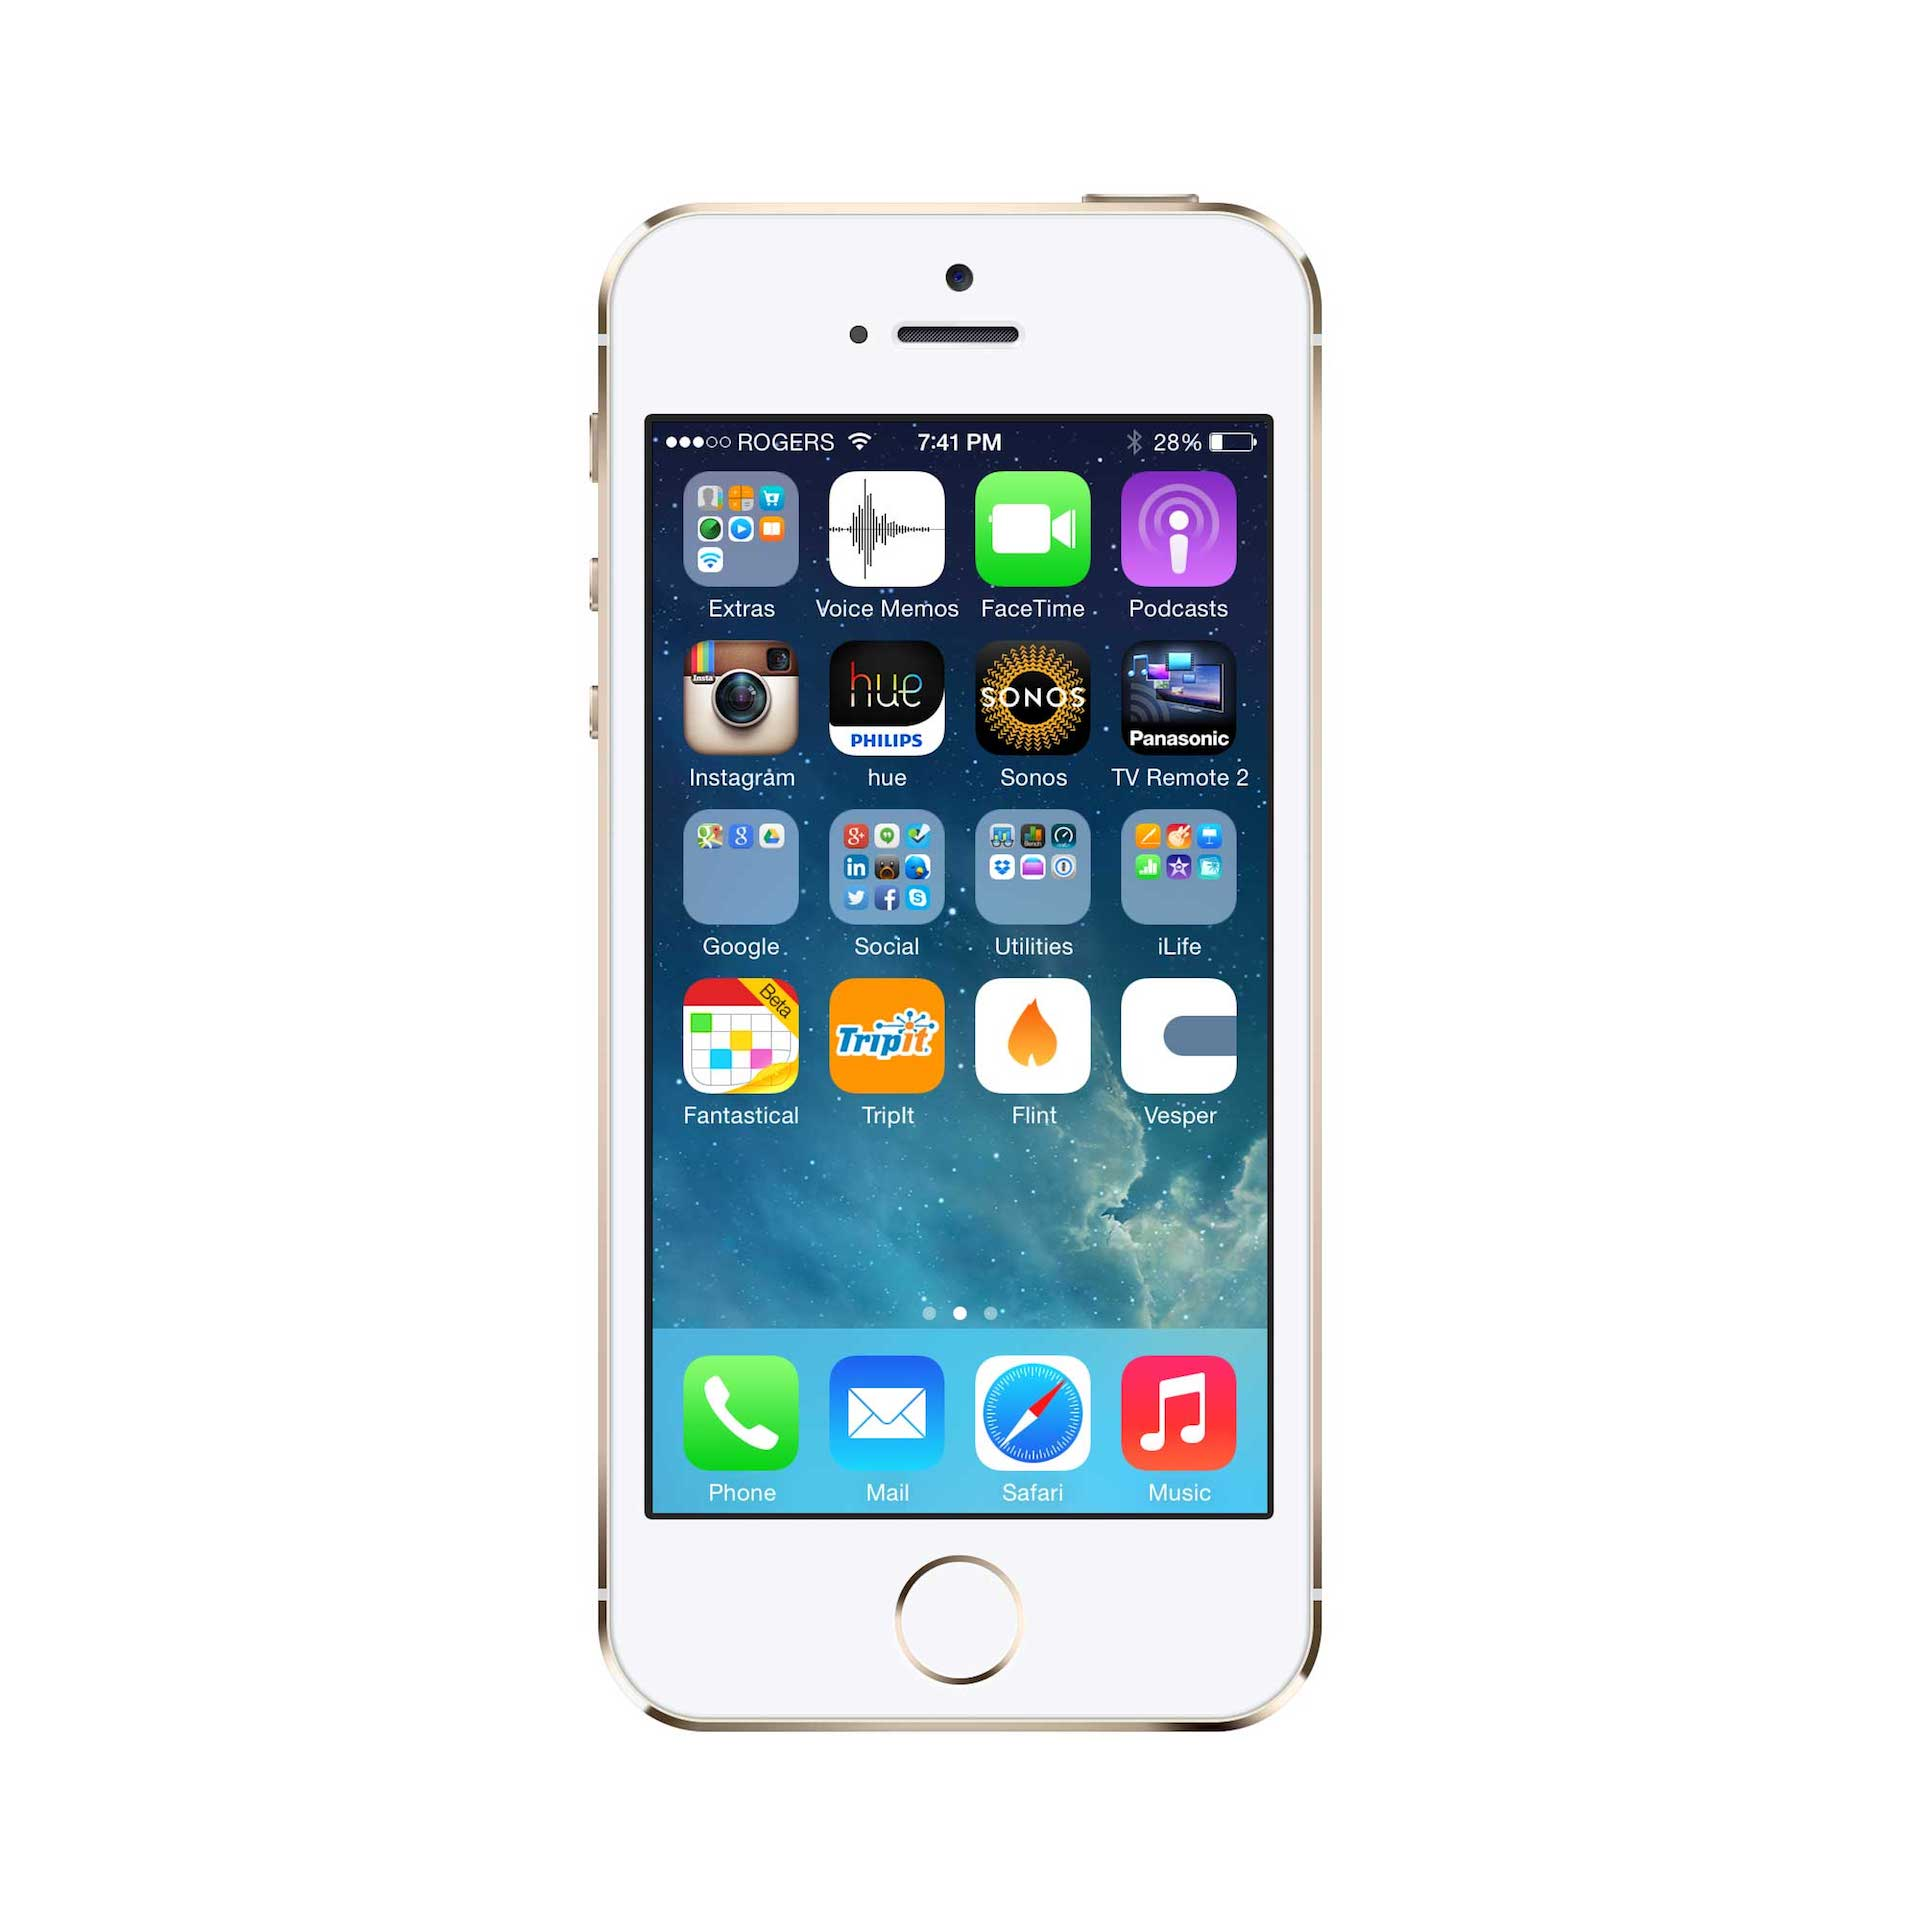smartphone: (587, 186, 1329, 1739)
